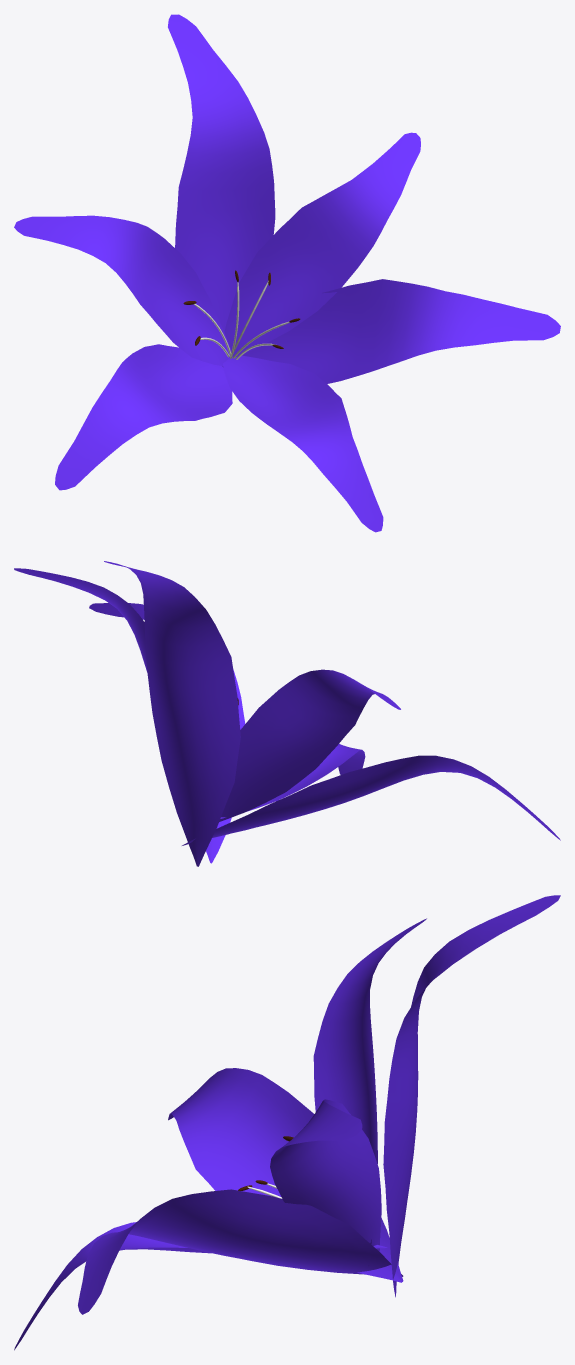
File: flower_bonus.glb
The picture shows the model from 3 angles, top to bottom: view 1: azimuth 30°, elevation 25°; view 2: azimuth 150°, elevation 25°; view 3: azimuth 270°, elevation 25°; orthographic projection. The views are drawn at different scales.
Parts seen in each view (by area): view 1: petals 1, pistils 3; view 2: petals 1; view 3: petals 1.
Boxes of the visible parts, <box> form: petals 1: <box>14,14,560,532</box>; pistils 3: <box>183,270,300,359</box>; petals 1: <box>14,561,560,866</box>; petals 1: <box>14,895,560,1350</box>.
Size of the model in its own units: 2.27 by 1.66 by 1.79.
